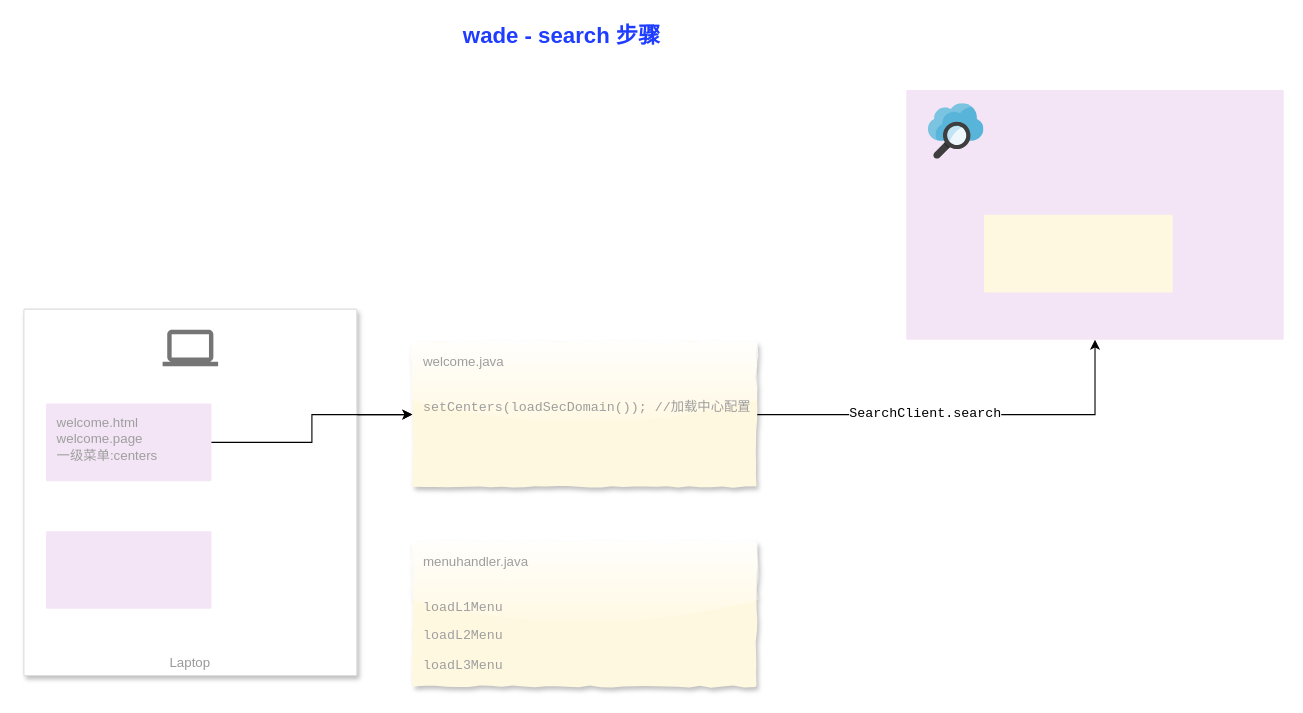
Some shapes in this 1303 by 713 pixel diagram are drawn without their labels. The centre of each missing label's shape, as x and y in pixels:
3中国际化语言索引 SEC_FUNCTION_EN SEC_FUNCTION_HK SEC_FUNCTION_en_US: (x=1077, y=253)
welcome.html welcome.js: (x=128, y=569)
